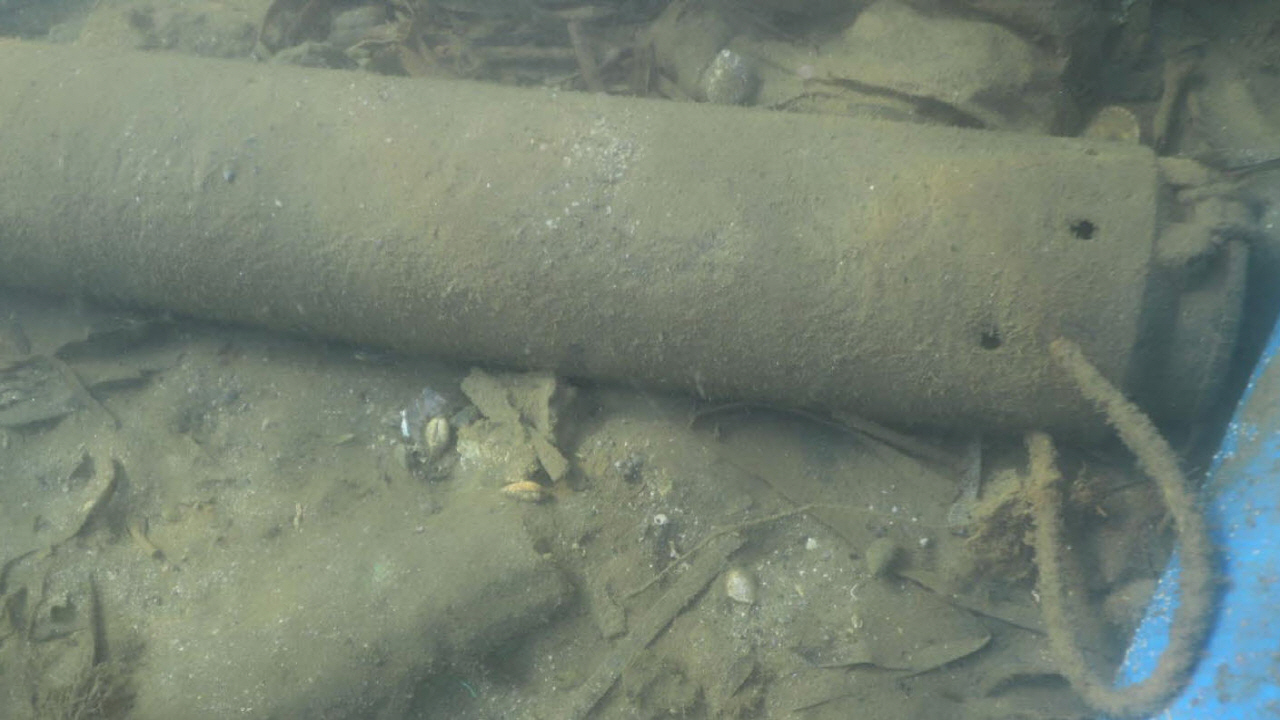eel fish trap: (0, 33, 1246, 430)
rope: (1026, 338, 1217, 720)
